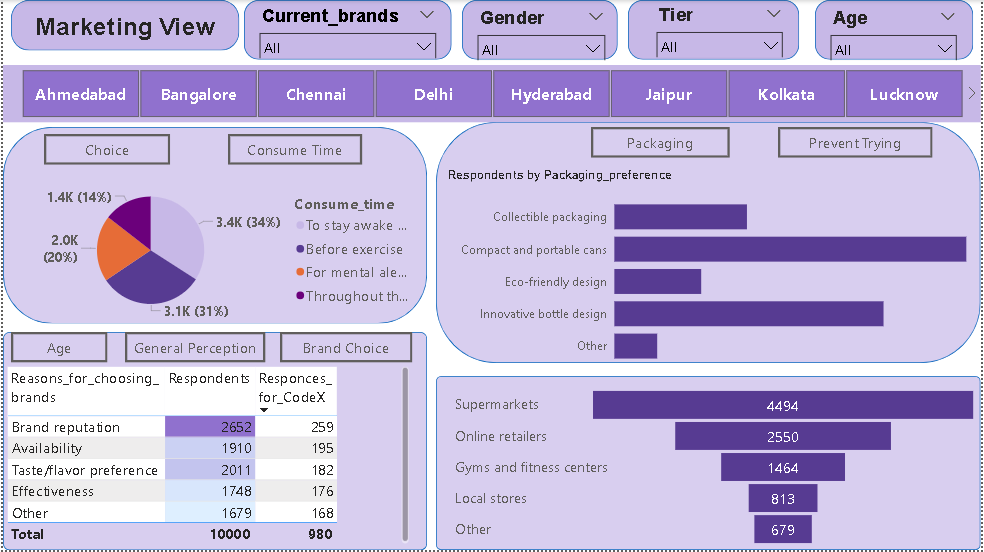

The dashboard page shown, as its layout file describes it:
{"tool":"powerbi","page":{"name":"Marketing View","canvas":[1280,720],"ordinal":4},"visuals":[{"type":"shape","box":[567.1,492.7,712.9,227.7],"z":0},{"type":"shape","box":[0,434.6,555.2,285.8],"z":1000},{"type":"shape","box":[567.1,159.3,712.9,315.5],"z":2000},{"type":"shape","box":[0,166.7,555.2,257.5],"z":3000},{"type":"shape","box":[1062.7,0,207.1,78.1],"z":4000},{"type":"shape","box":[818.2,0,224.1,78.1],"z":5000},{"type":"shape","box":[601,0,203.7,78.1],"z":6000},{"type":"shape","box":[315.8,0,271.6,78.1],"z":7000},{"type":"shape","box":[10.2,0,298.8,66.2],"z":8000},{"type":"textbox","box":[10.2,10.2,298.8,47.5],"z":9000},{"type":"pieChart","fields":{"Y":["Measuretable.Total_People"],"Category":["fact_survey_responses.Consume_time"]},"box":[0,231.3,548.6,191.8],"z":10000},{"type":"tableEx","fields":{"Values":["fact_survey_responses.Reasons_for_choosing_brands","Measuretable.Total_People","Measuretable.Responces_for_CodeX"]},"box":[0,474.8,535.8,241.1],"z":12000},{"type":"slicer","fields":{"Values":["dim_cities.City"]},"box":[0,85.2,1279.8,74.9],"z":13000},{"type":"slicer","fields":{"Values":["dim_repondents.Gender"]},"box":[611.1,3.4,186.7,74.7],"z":14000},{"type":"slicer","fields":{"Values":["fact_survey_responses.Current_brands"]},"box":[325.9,1.7,251.2,74.7],"z":15000},{"type":"slicer","fields":{"Values":["dim_repondents.Age"]},"box":[1072.9,3.4,185,74.7],"z":16000},{"type":"slicer","fields":{"Values":["dim_cities.Tier"]},"box":[845.4,0,185,74.7],"z":17000},{"type":"funnel","fields":{"Category":["fact_survey_responses.Purchase_location"],"Y":["Measuretable.Respondents"]},"box":[586.4,503.1,693.6,217.3],"z":18000},{"type":"actionButton","box":[10.3,434.9,126.4,39.7],"z":21000},{"type":"actionButton","box":[160.2,434.9,183.7,39.7],"z":22000},{"type":"actionButton","box":[362.9,434.9,173.4,39.7],"z":23000},{"type":"barChart","fields":{"Y":["Measuretable.Respondents"],"Category":["fact_survey_responses.Packaging_preference"]},"box":[577.5,218.8,690.6,273.9],"z":25000},{"type":"actionButton","box":[769.5,166.7,181.6,40.2],"z":26000},{"type":"actionButton","box":[1015.1,166.7,202.4,40.2],"z":27000},{"type":"actionButton","box":[53.6,175.6,165.2,40.2],"z":28000},{"type":"actionButton","box":[294.7,175.6,175.6,40.2],"z":29000}]}

Visuals, with their boxes in screenshot pixels (x1, y1, x2, y2), scaled from the page's 1280x720 canvas onto the 984x552 screenshot:
shape: select_region(436, 378, 983, 551)
shape: select_region(0, 333, 427, 551)
shape: select_region(436, 122, 983, 364)
shape: select_region(0, 128, 427, 325)
shape: select_region(817, 0, 976, 60)
shape: select_region(629, 0, 801, 60)
shape: select_region(462, 0, 619, 60)
shape: select_region(243, 0, 452, 60)
shape: select_region(8, 0, 238, 51)
textbox: select_region(8, 8, 238, 44)
pieChart - Measuretable.Total_People x fact_survey_responses.Consume_time: select_region(0, 177, 422, 324)
tableEx - fact_survey_responses.Reasons_for_choosing_brands x Measuretable.Total_People: select_region(0, 364, 412, 549)
slicer - dim_cities.City: select_region(0, 65, 983, 123)
slicer - dim_repondents.Gender: select_region(470, 3, 613, 60)
slicer - fact_survey_responses.Current_brands: select_region(251, 1, 444, 59)
slicer - dim_repondents.Age: select_region(825, 3, 967, 60)
slicer - dim_cities.Tier: select_region(650, 0, 792, 57)
funnel - fact_survey_responses.Purchase_location x Measuretable.Respondents: select_region(451, 386, 983, 551)
actionButton: select_region(8, 333, 105, 364)
actionButton: select_region(123, 333, 264, 364)
actionButton: select_region(279, 333, 412, 364)
barChart - Measuretable.Respondents x fact_survey_responses.Packaging_preference: select_region(444, 168, 975, 378)
actionButton: select_region(592, 128, 731, 159)
actionButton: select_region(780, 128, 936, 159)
actionButton: select_region(41, 135, 168, 165)
actionButton: select_region(227, 135, 362, 165)
